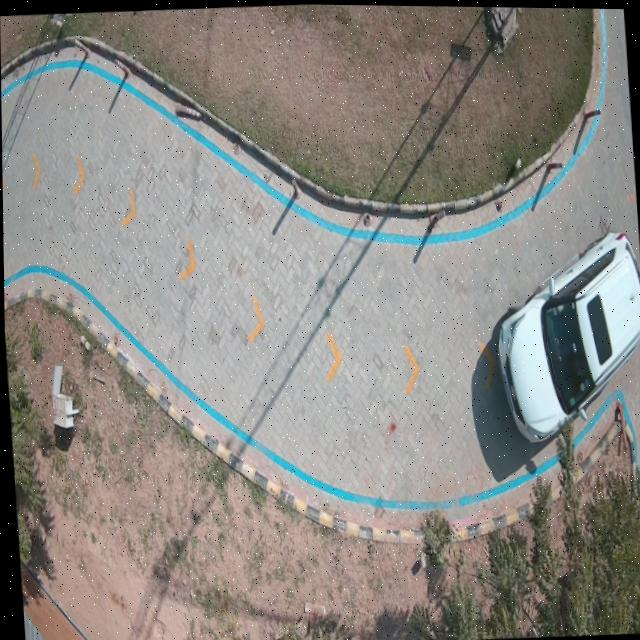car: (497, 229, 640, 442)
